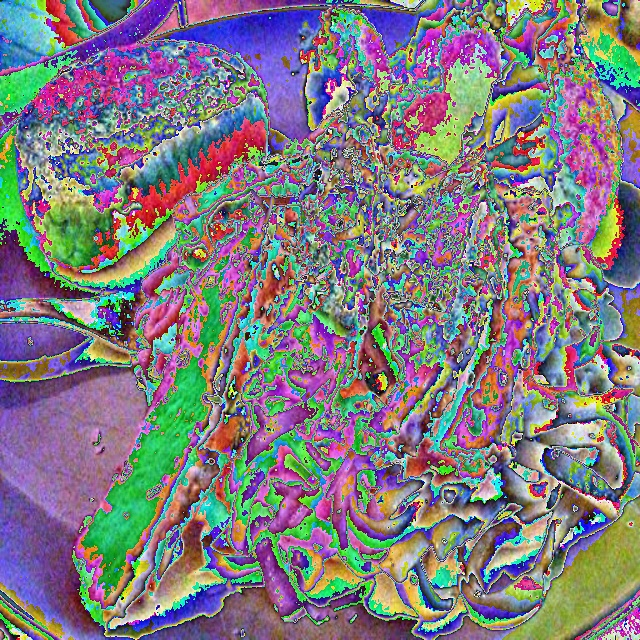background: (13, 0, 638, 632)
